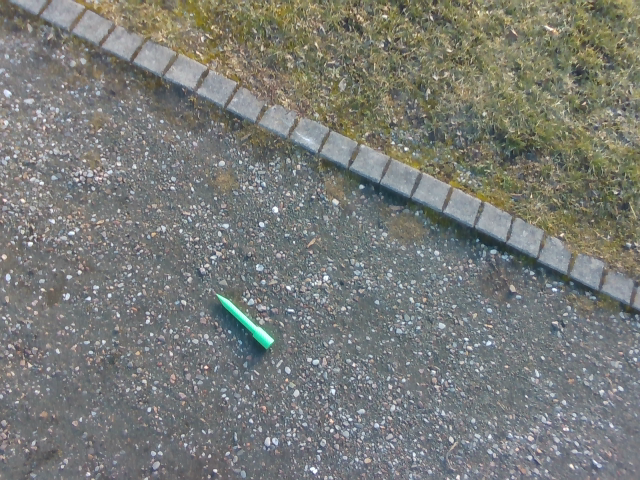Probe: (209, 284, 279, 355)
